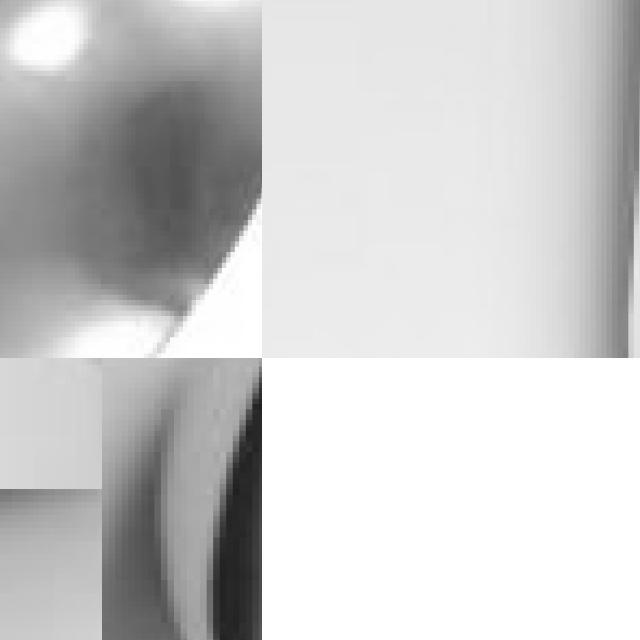spoons: (0, 0, 262, 358), (18, 358, 262, 574)
